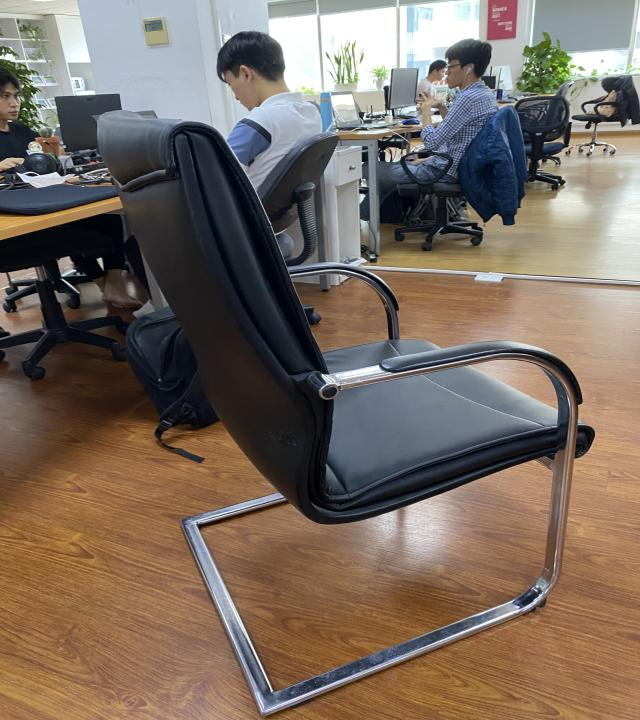SS_03: (96, 104, 596, 720)
